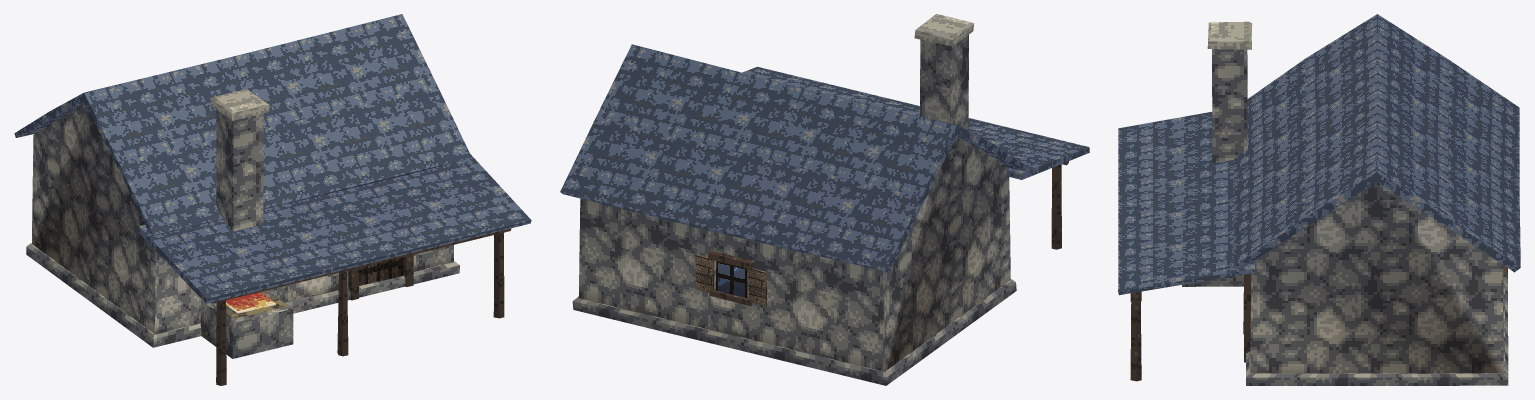
File: vlg.smithy.glb
3 renders of one model, left to right at view 1: azimuth 30°, elevation 25°; view 2: azimuth 150°, elevation 25°; view 3: azimuth 270°, elevation 25°, orthographic. The views are drawn at different scales.
Parts seen in each view (by area): view 1: kit_roof, kit_walls, kit_stonework, kit_frame, kit_fittings; view 2: kit_roof, kit_walls, kit_stonework, kit_fittings, kit_frame; view 3: kit_roof, kit_walls, kit_stonework, kit_frame, kit_fittings.
Part boxes in pixels (x1,y1,x2,y2): kit_roof: (14,14,531,303); kit_walls: (31,104,453,334); kit_stonework: (26,89,459,358); kit_frame: (211,228,511,385); kit_fittings: (226,254,413,313); kit_roof: (560,44,1089,272); kit_walls: (578,136,1010,371); kit_stonework: (572,14,1016,385); kit_fittings: (695,250,766,306); kit_frame: (1051,161,1068,249); kit_roof: (1118,14,1520,295); kit_walls: (1250,182,1503,373); kit_stonework: (1182,21,1508,385); kit_frame: (1130,291,1141,381); kit_fittings: (1243,265,1507,362).
Size of the model in its own units: 7.63 by 5.27 by 7.94.
9 materials, 9 textured.
